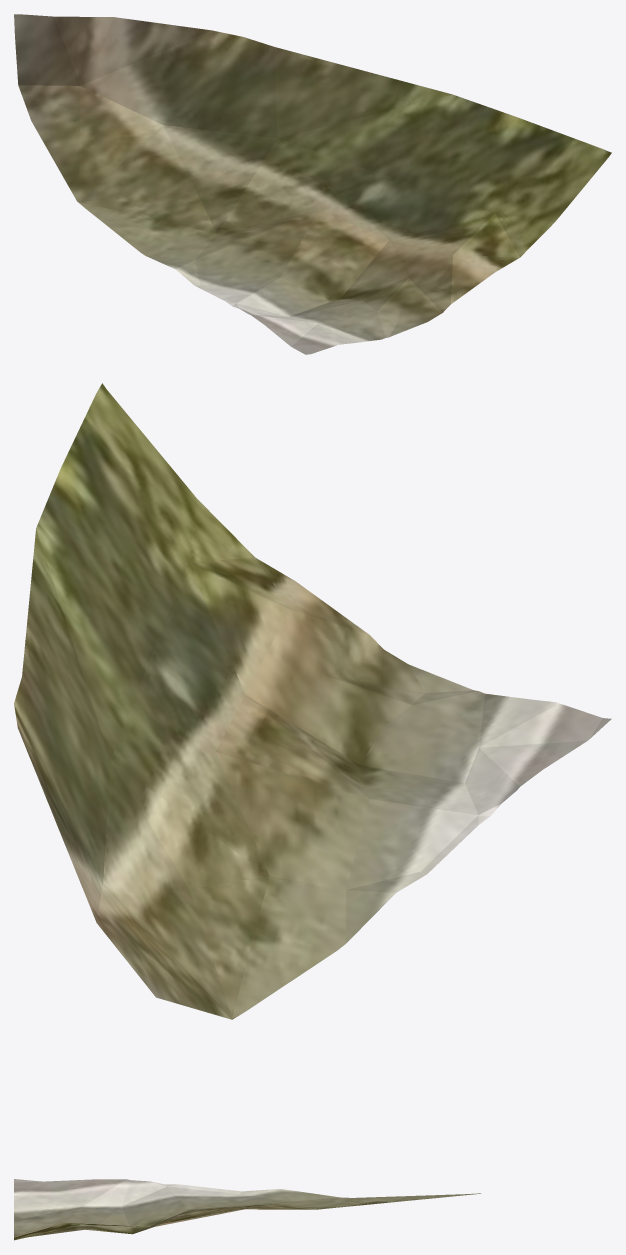
3 renders of one model, top to bottom at view 1: azimuth 30°, elevation 25°; view 2: azimuth 150°, elevation 25°; view 3: azimuth 270°, elevation 25°, orthographic. The views are drawn at different scales.
Size of the model in its own units: 1.52 by 0.6901 by 2.5.
1 material, 1 textured.
